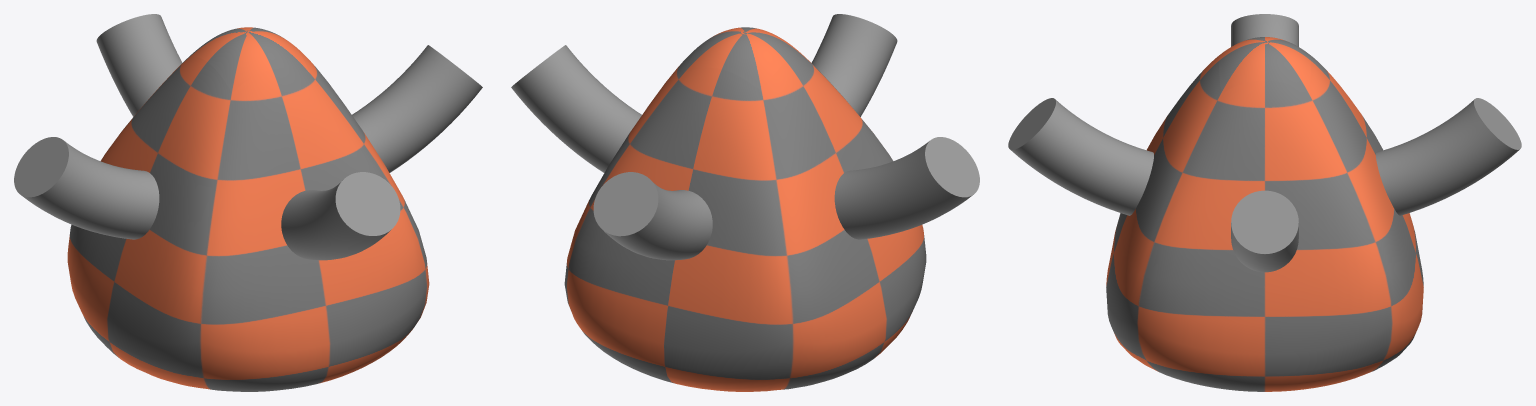
The model's file is Body(Pyramidal)+Colour(More_Orange)+Pattern(Checkered)+Arm_Angle(Bent_Up).fbx.
3 views of the same model, side by side, from view 1: azimuth 30°, elevation 25°; view 2: azimuth 150°, elevation 25°; view 3: azimuth 270°, elevation 25° (orthographic). The views are drawn at different scales.
Parts seen in each view (by area): view 1: Body(Pyramidal)+Colour(More_Orange)+Pattern(Checkered)+Arm_A (×5); view 2: Body(Pyramidal)+Colour(More_Orange)+Pattern(Checkered)+Arm_A (×5); view 3: Body(Pyramidal)+Colour(More_Orange)+Pattern(Checkered)+Arm_A (×5).
Boxes of the visible parts, x1,y1,x2,y2 form: Body(Pyramidal)+Colour(More_Orange)+Pattern(Checkered)+Arm_A (×5): (14, 14, 482, 391); Body(Pyramidal)+Colour(More_Orange)+Pattern(Checkered)+Arm_A (×5): (511, 14, 979, 391); Body(Pyramidal)+Colour(More_Orange)+Pattern(Checkered)+Arm_A (×5): (1008, 14, 1521, 391).
Size of the model in its own units: 60.67 by 40 by 60.67.
2 materials, 1 textured.
